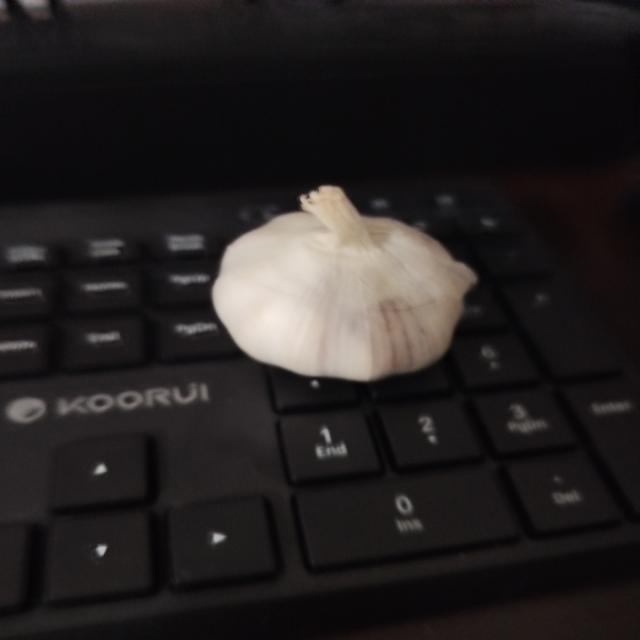garlic: (210, 184, 479, 382)
